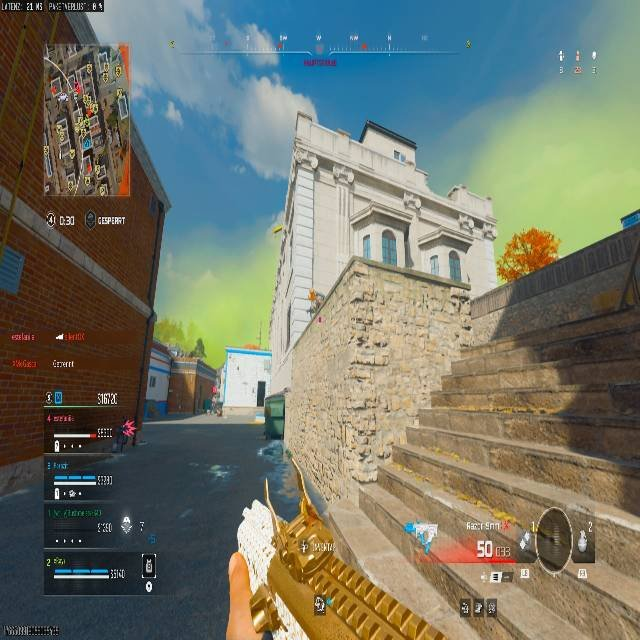player: (118, 417, 137, 452), (211, 386, 222, 416)
